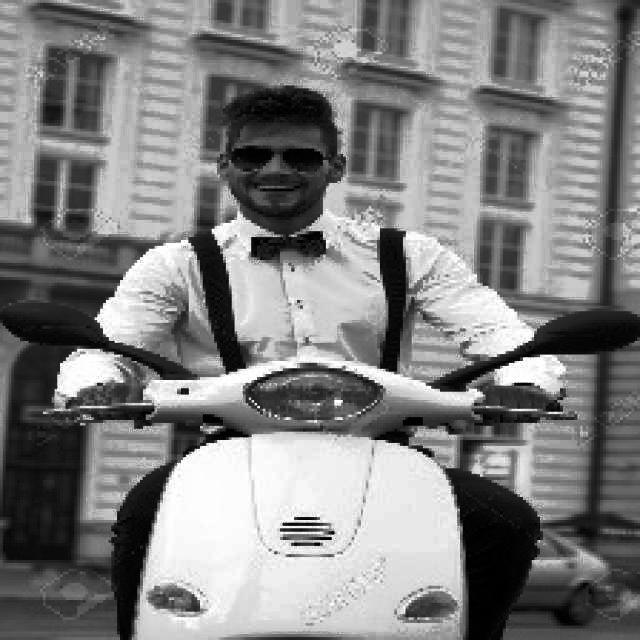Bike: (110, 370, 486, 640)
